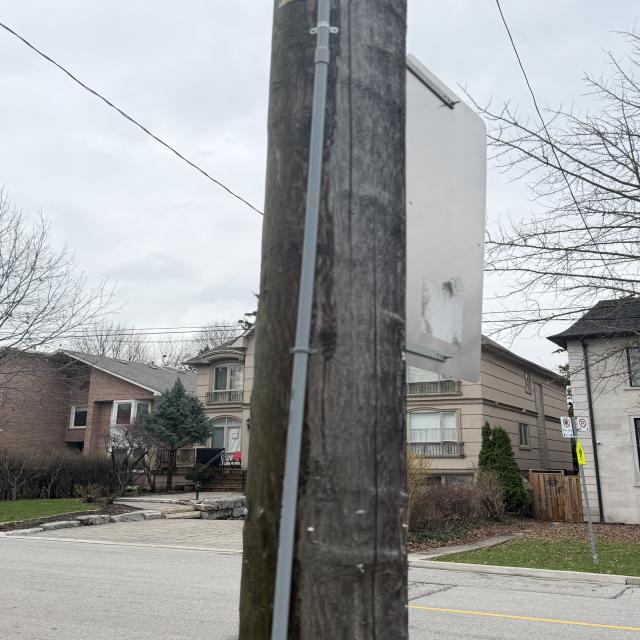Electrical Pole: (233, 0, 489, 639)
